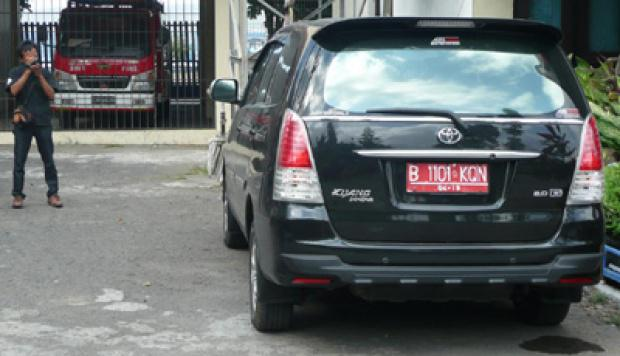plate: (405, 160, 490, 194)
